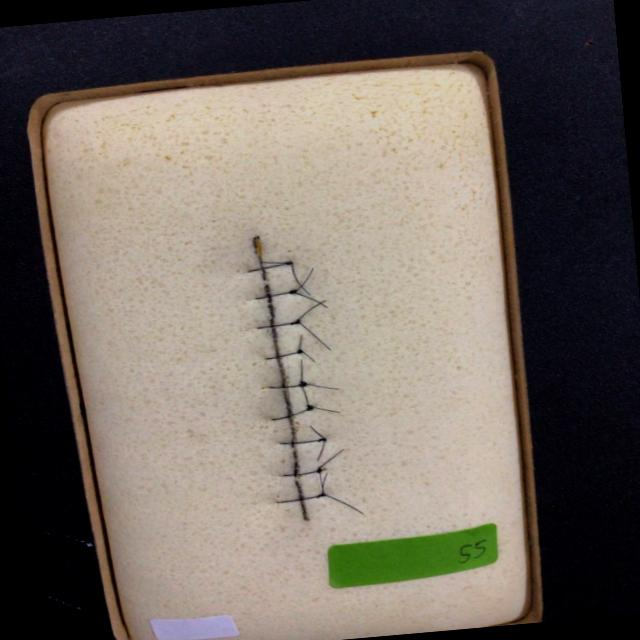knot: (287, 317, 303, 326), (303, 403, 316, 412), (286, 287, 299, 296), (296, 379, 308, 388), (281, 259, 295, 266), (315, 491, 328, 498), (316, 436, 329, 443), (314, 465, 324, 474), (294, 347, 304, 355)
leftover: (296, 320, 332, 351), (322, 493, 364, 515), (289, 261, 312, 295), (295, 298, 327, 322), (291, 290, 328, 308), (317, 447, 344, 469), (292, 266, 314, 292), (301, 382, 340, 390), (307, 424, 326, 440), (308, 404, 341, 413), (315, 438, 326, 461), (299, 385, 310, 408), (298, 350, 316, 363), (320, 471, 328, 495), (316, 470, 324, 490), (298, 358, 303, 383), (258, 260, 287, 264), (297, 333, 303, 352)
stitch: (271, 406, 312, 421), (245, 260, 292, 272), (278, 492, 326, 503), (253, 289, 297, 300), (264, 349, 303, 360), (255, 320, 301, 329), (277, 437, 325, 445), (281, 468, 322, 477), (266, 382, 305, 389)
wound: (254, 237, 308, 521)
